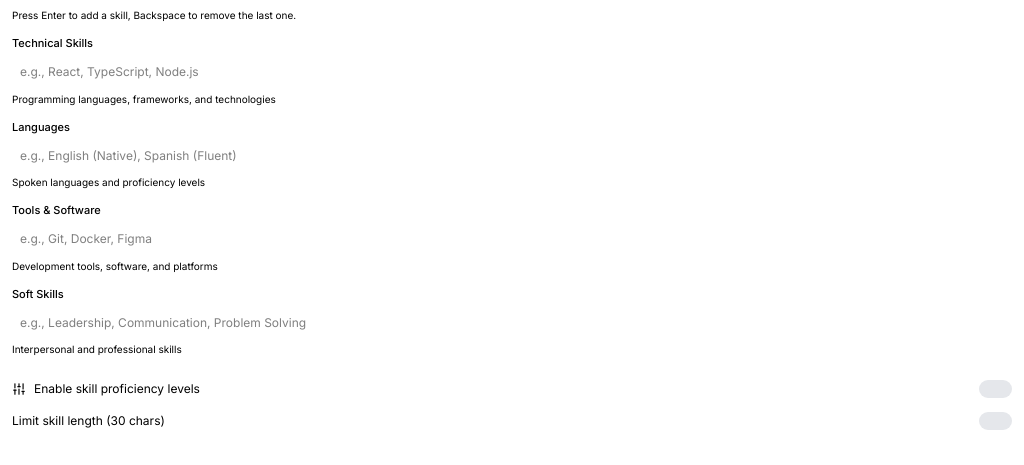
Test: SkillsForm › Adding Skills - Technical › adds a technical skill when Enter is pressed
Type "React" into the field with placeholder "e.g., React, TypeScript, Node.js" at (512, 72), box [20,62,1004,82]
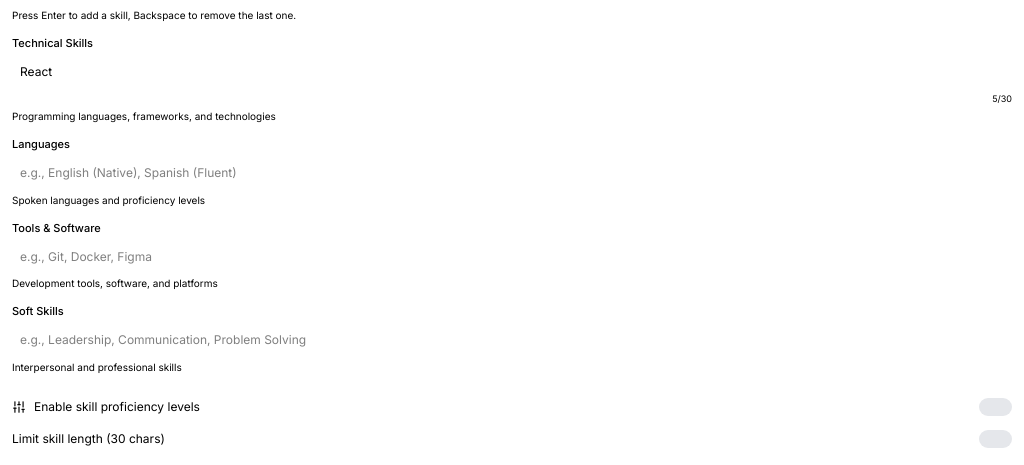
Press Enter
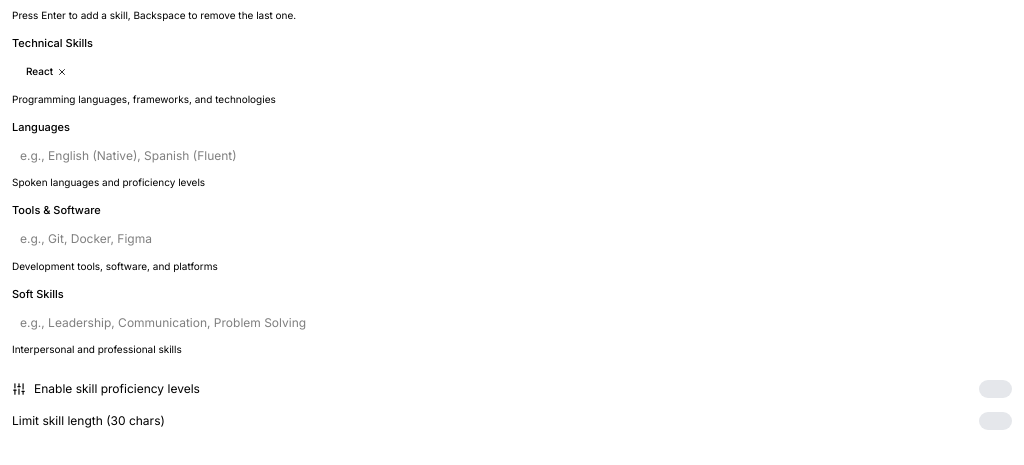
expect the field with placeholder "react, typescript, node.js" is empty: met, box [79,62,1004,82]
expect the text "React" is shown: met, box [26,65,53,78]
